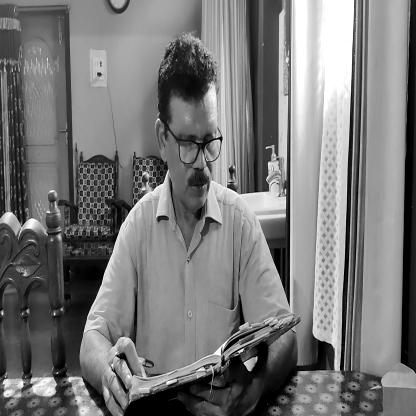Normal: (156, 36, 221, 217)
